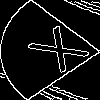X: (25, 24, 100, 81)
